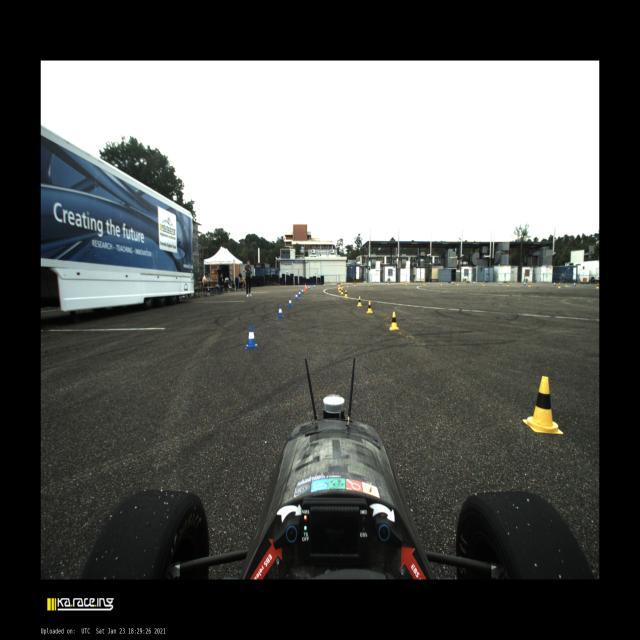blue_cone: (245, 324, 258, 348), (277, 305, 284, 318), (288, 298, 292, 307), (294, 292, 298, 300), (298, 290, 301, 297), (302, 288, 304, 294), (306, 286, 308, 290), (308, 285, 310, 289), (574, 282, 576, 286), (473, 281, 475, 285), (348, 282, 350, 285), (323, 284, 325, 287), (333, 283, 335, 286), (554, 281, 555, 286), (500, 281, 501, 285), (524, 281, 525, 285), (452, 282, 454, 284), (314, 285, 315, 288), (428, 282, 429, 284), (407, 282, 408, 284), (388, 281, 388, 285)
large_orange_cone: (304, 284, 307, 292), (338, 283, 340, 291)
yellow_cone: (523, 376, 563, 434), (389, 312, 399, 330), (367, 301, 372, 313), (357, 296, 362, 306), (344, 290, 348, 296), (242, 274, 245, 280), (341, 288, 343, 294), (596, 284, 599, 288), (558, 283, 560, 288), (528, 282, 530, 287), (339, 287, 341, 292), (507, 282, 509, 286), (483, 282, 485, 286), (457, 282, 459, 286), (354, 282, 356, 286), (423, 282, 425, 286), (340, 284, 342, 288), (346, 283, 348, 287), (241, 276, 242, 282), (441, 282, 442, 286), (342, 284, 343, 288), (368, 282, 369, 286), (388, 283, 390, 285), (406, 282, 407, 285)
